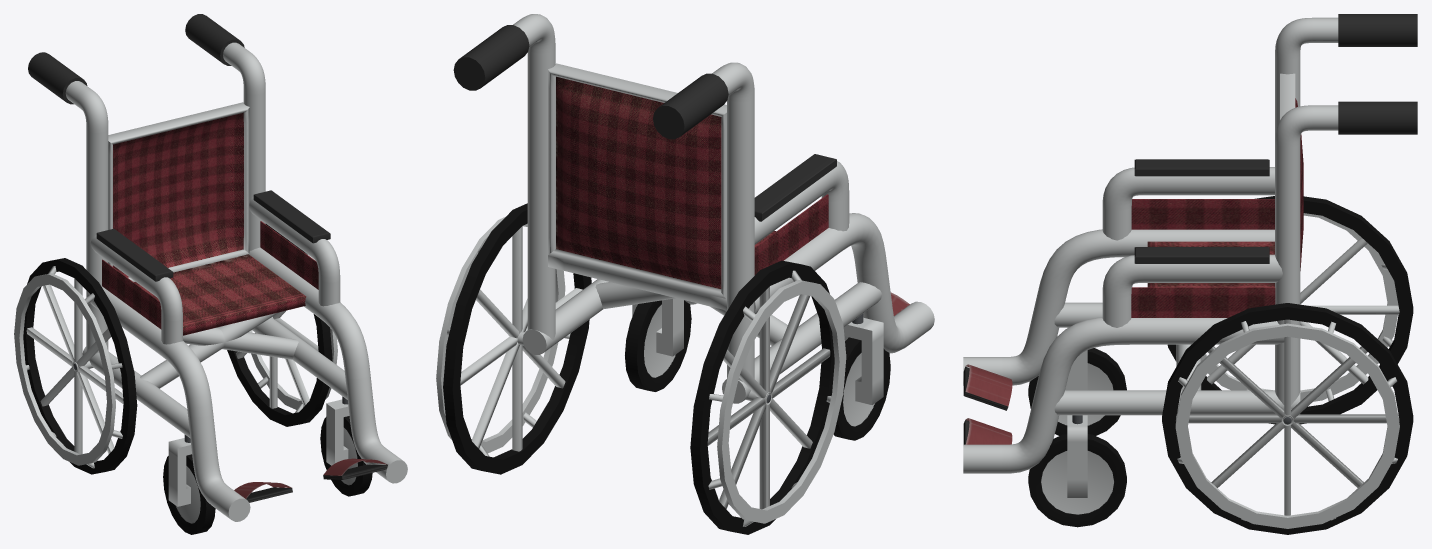
The model's file is wheelchair.fbx.
The picture shows the model from 3 angles, left to right: view 1: azimuth 30°, elevation 25°; view 2: azimuth 150°, elevation 25°; view 3: azimuth 270°, elevation 25°; orthographic projection. The views are drawn at different scales.
Visible parts, largest first — view 1: chair, pCylinder46, pCylinder45, pCylinder47, wheel_r, pCylinder3, pCylinder35, wheel_l, armrest_l, armrest_r, pCylinder20, pCylinder18 (+17 smaller); view 2: chair, pCylinder3, pCylinder47, wheel_r, wheel_l, pCylinder35, pCylinder46, pCylinder30, pCylinder36, pCylinder20, armrest_r, pCylinder31 (+14 smaller); view 3: pCylinder3, pCylinder45, wheel_l, pCylinder36, pCylinder46, pCylinder30, pCylinder47, wheel_r, armrest_l, pCylinder18, armrest_r, pPlane4 (+17 smaller).
Boxes of the visible parts, x1,y1,x2,y2 form: chair: (108, 102, 306, 335); pCylinder46: (87, 286, 250, 521); pCylinder45: (249, 247, 407, 483); pCylinder47: (28, 52, 108, 353); wheel_r: (23, 258, 137, 474); pCylinder3: (185, 14, 265, 250); pCylinder35: (14, 273, 115, 465); wheel_l: (227, 224, 332, 426); armrest_l: (249, 197, 340, 306); armrest_r: (90, 235, 182, 344); pCylinder20: (82, 346, 190, 437); pCylinder18: (252, 317, 347, 399); chair: (548, 63, 776, 310); pCylinder3: (453, 14, 555, 340); pCylinder47: (653, 62, 754, 381); wheel_r: (690, 260, 834, 534); wheel_l: (443, 203, 591, 474); pCylinder35: (717, 280, 846, 523); pCylinder46: (754, 213, 934, 353); pCylinder30: (625, 300, 691, 391); pCylinder36: (436, 216, 565, 453); pCylinder20: (722, 282, 882, 403); armrest_r: (754, 161, 849, 244); pCylinder31: (833, 337, 890, 440); pCylinder3: (1275, 101, 1417, 404); pCylinder45: (963, 317, 1284, 473); wheel_l: (1162, 303, 1413, 534); pCylinder36: (1175, 323, 1399, 528); pCylinder46: (963, 229, 1274, 385); pCylinder30: (1028, 434, 1126, 527); pCylinder47: (1275, 14, 1417, 136); wheel_r: (1167, 196, 1413, 424); armrest_l: (1102, 254, 1282, 327); pCylinder18: (1054, 390, 1300, 415); armrest_r: (1102, 167, 1274, 240); pPlane4: (1131, 199, 1274, 229).
Size of the model in its own units: 119 by 186 by 182.
